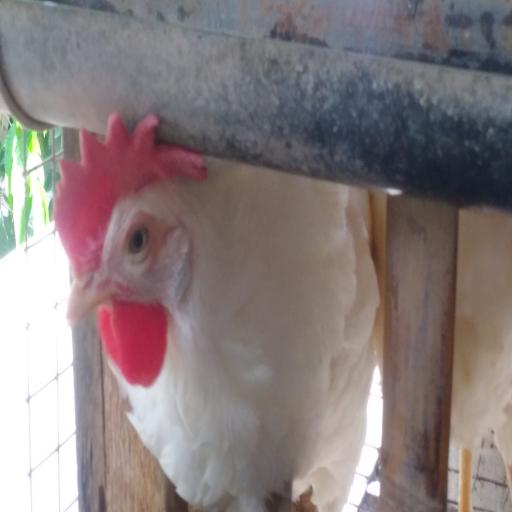healthy: (76, 157, 208, 372)
